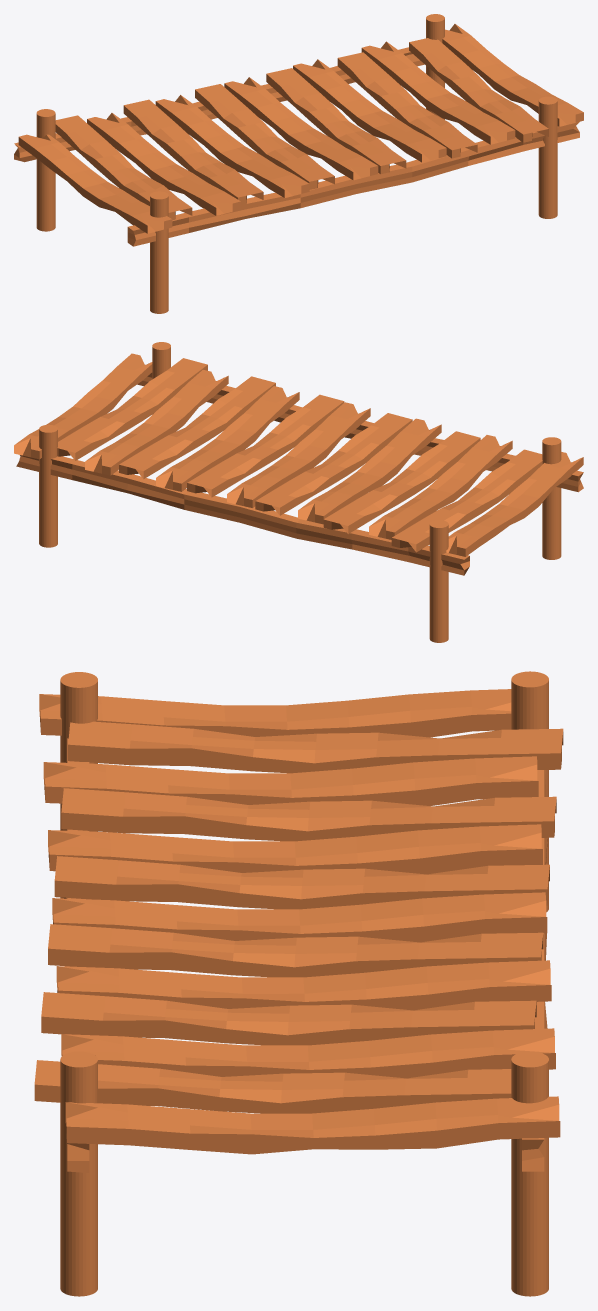
The model's file is bridge_Straight.fbx.
3 views of the same model, one above another, from view 1: azimuth 30°, elevation 25°; view 2: azimuth 150°, elevation 25°; view 3: azimuth 270°, elevation 25° (orthographic). The views are drawn at different scales.
Visible parts, largest first — view 1: bridge3; view 2: bridge3; view 3: bridge3.
Part boxes in pixels (x1,y1,x2,y2): bridge3: (14,14,583,313); bridge3: (14,342,583,642); bridge3: (34,671,563,1296).
Size of the model in its own units: 697 by 169 by 354.
